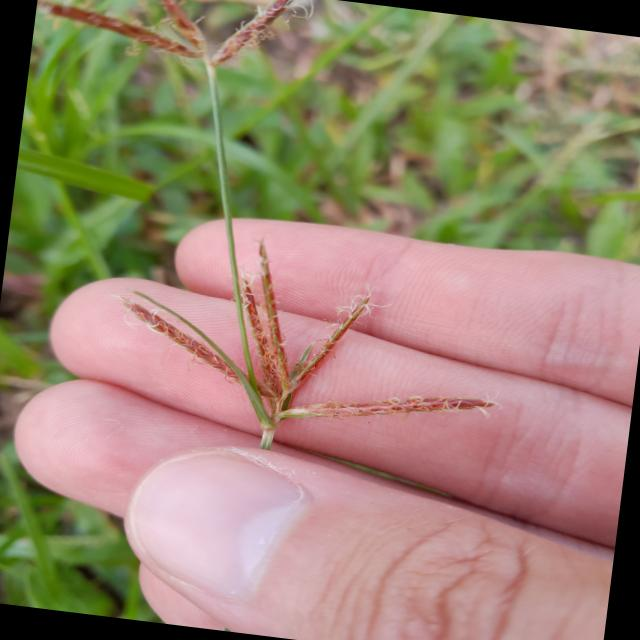cyperus: (0, 0, 551, 480), (93, 216, 524, 467), (28, 0, 337, 109)
